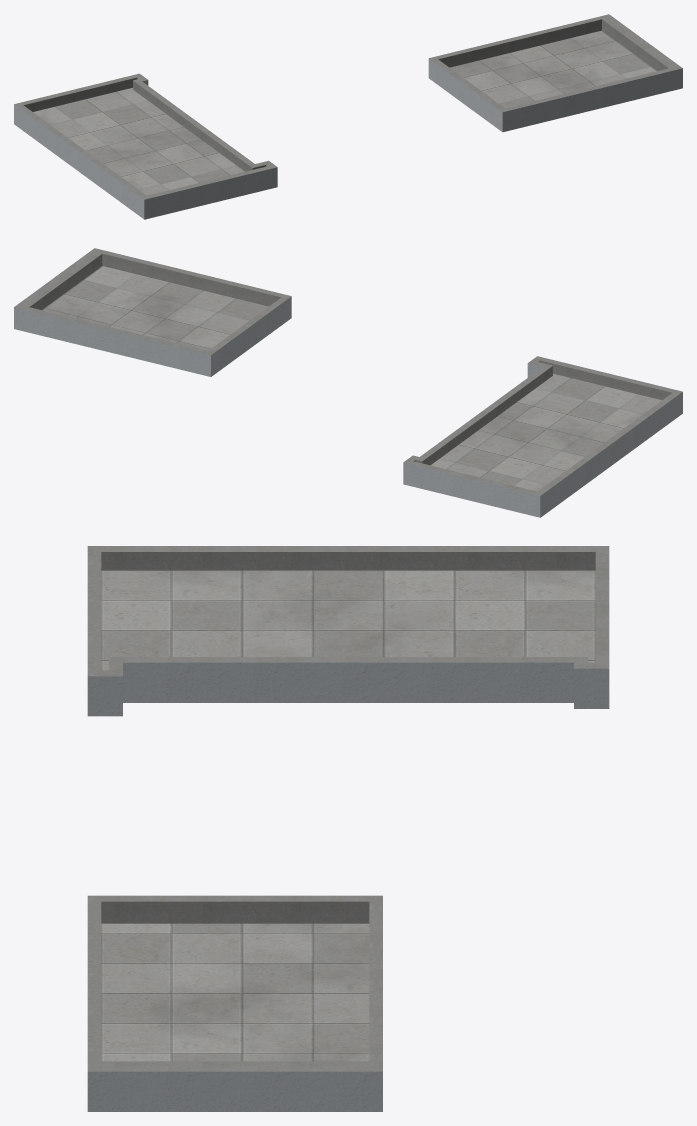
File: hkjls_hkjls_f07_out_T005.obj
3 views of the same model, one above another, from view 1: azimuth 30°, elevation 25°; view 2: azimuth 150°, elevation 25°; view 3: azimuth 270°, elevation 25° (orthographic). The views are drawn at different scales.
Visible parts, largest first — view 1: hkjls_hkjls_f07_out_004_H005, hkjls_hkjls_f07_out_003_H005, hkjls_hkjls_f07_out_002_H005; view 2: hkjls_hkjls_f07_out_004_H005, hkjls_hkjls_f07_out_003_H005, hkjls_hkjls_f07_out_002_H005; view 3: hkjls_hkjls_f07_out_004_H005, hkjls_hkjls_f07_out_002_H005, hkjls_hkjls_f07_out_003_H005.
Part boxes in pixels (bbox=[...]): hkjls_hkjls_f07_out_004_H005: bbox=[33, 30, 657, 195]; hkjls_hkjls_f07_out_003_H005: bbox=[14, 58, 682, 219]; hkjls_hkjls_f07_out_002_H005: bbox=[14, 14, 682, 199]; hkjls_hkjls_f07_out_004_H005: bbox=[42, 266, 661, 491]; hkjls_hkjls_f07_out_003_H005: bbox=[14, 296, 682, 517]; hkjls_hkjls_f07_out_002_H005: bbox=[14, 248, 682, 495]; hkjls_hkjls_f07_out_004_H005: bbox=[101, 570, 595, 1061]; hkjls_hkjls_f07_out_002_H005: bbox=[87, 546, 609, 1071]; hkjls_hkjls_f07_out_003_H005: bbox=[87, 662, 609, 1111].
Bounding box in the file's own units: 1406 × 50 × 590.
4 materials, 4 textured.
